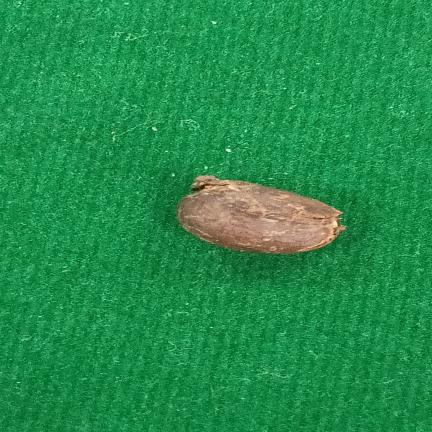husk: (177, 176, 345, 254)
